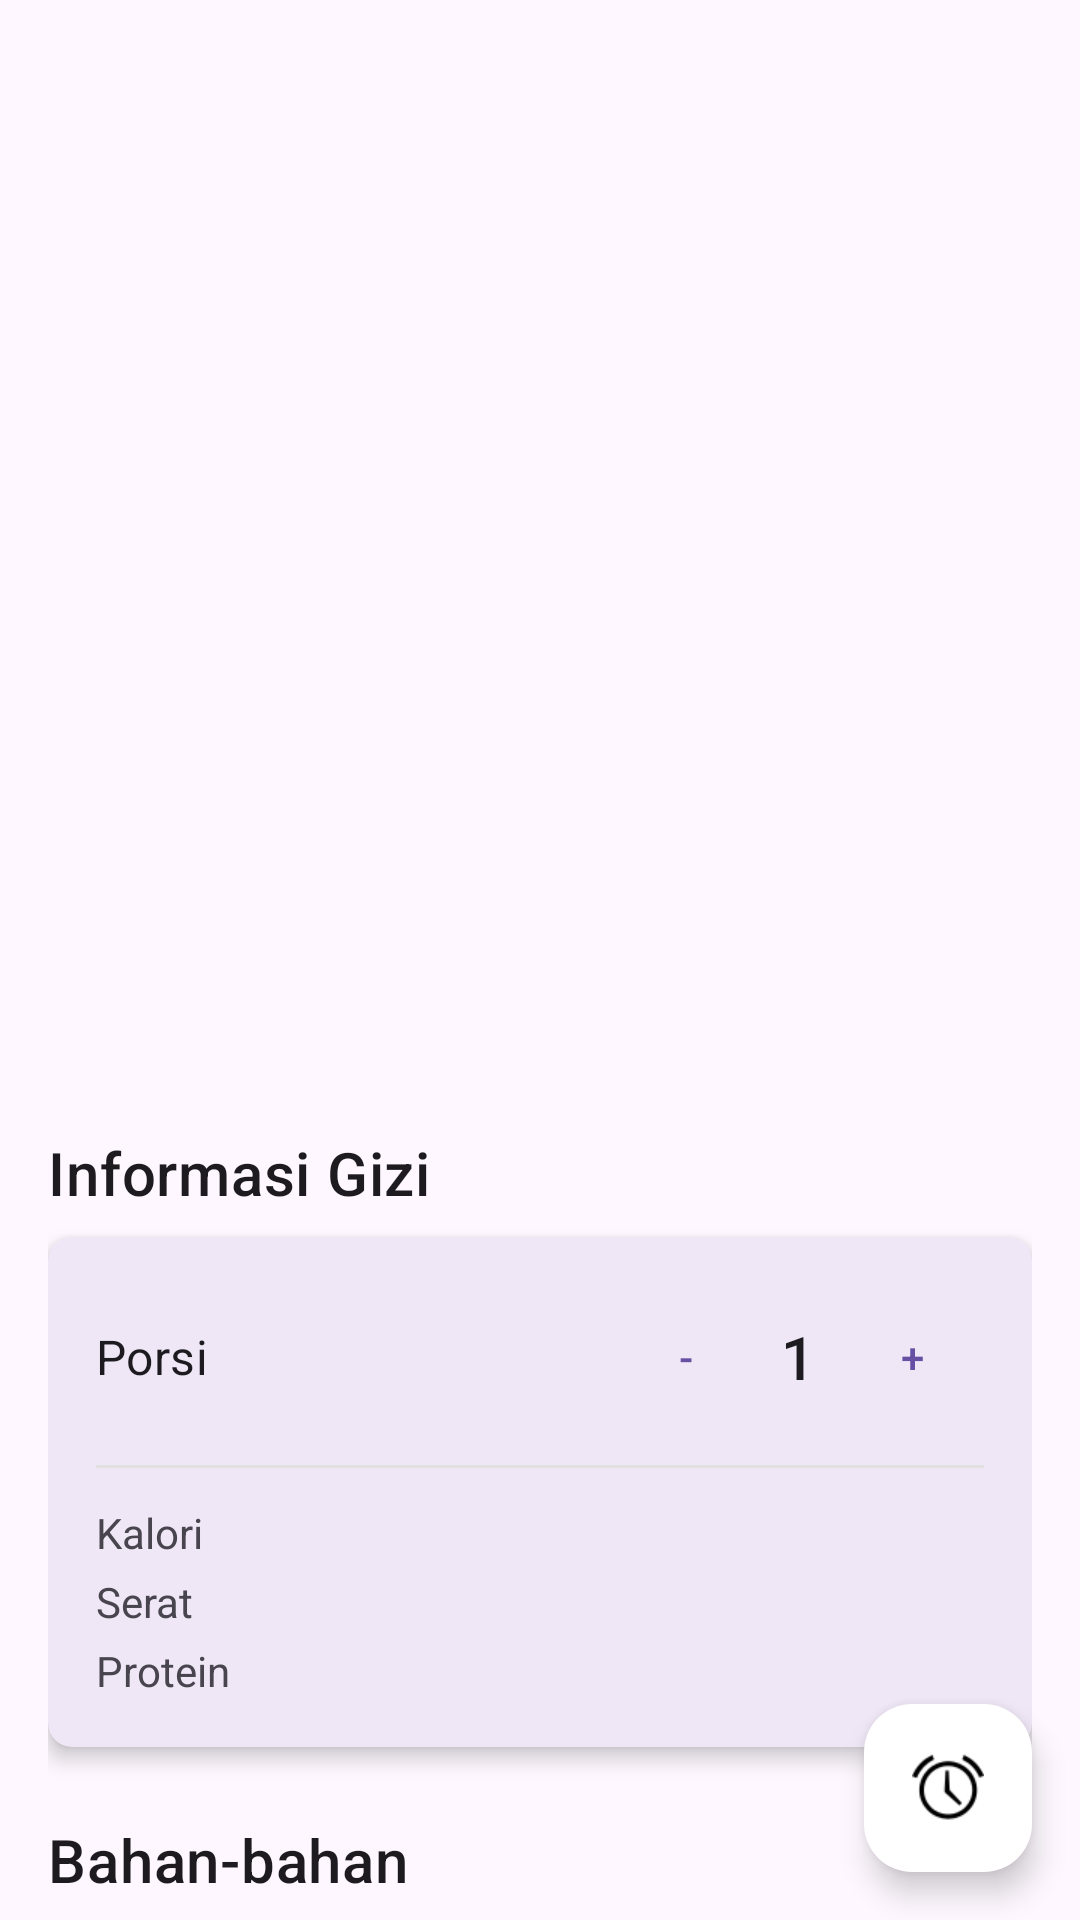

Named icons in this screenshot (1080 × 1920) and their centers, (x=x, y=y):
lock idle alarm: (x=948, y=1788)
